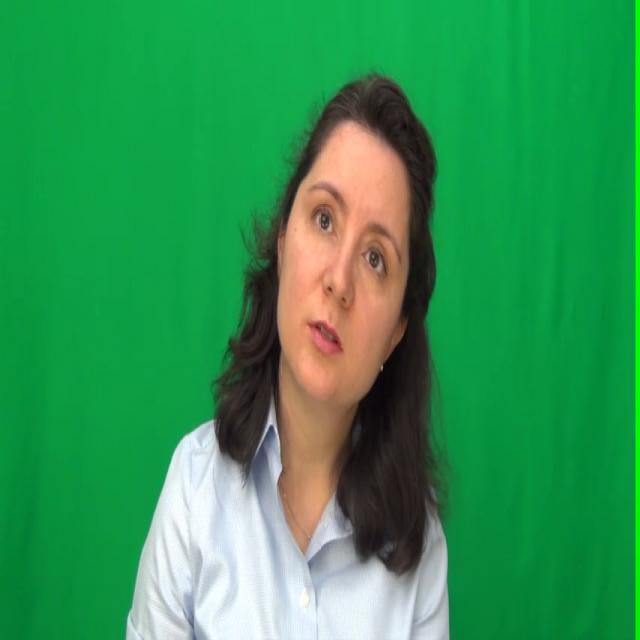Engaged: (283, 119, 403, 408)
